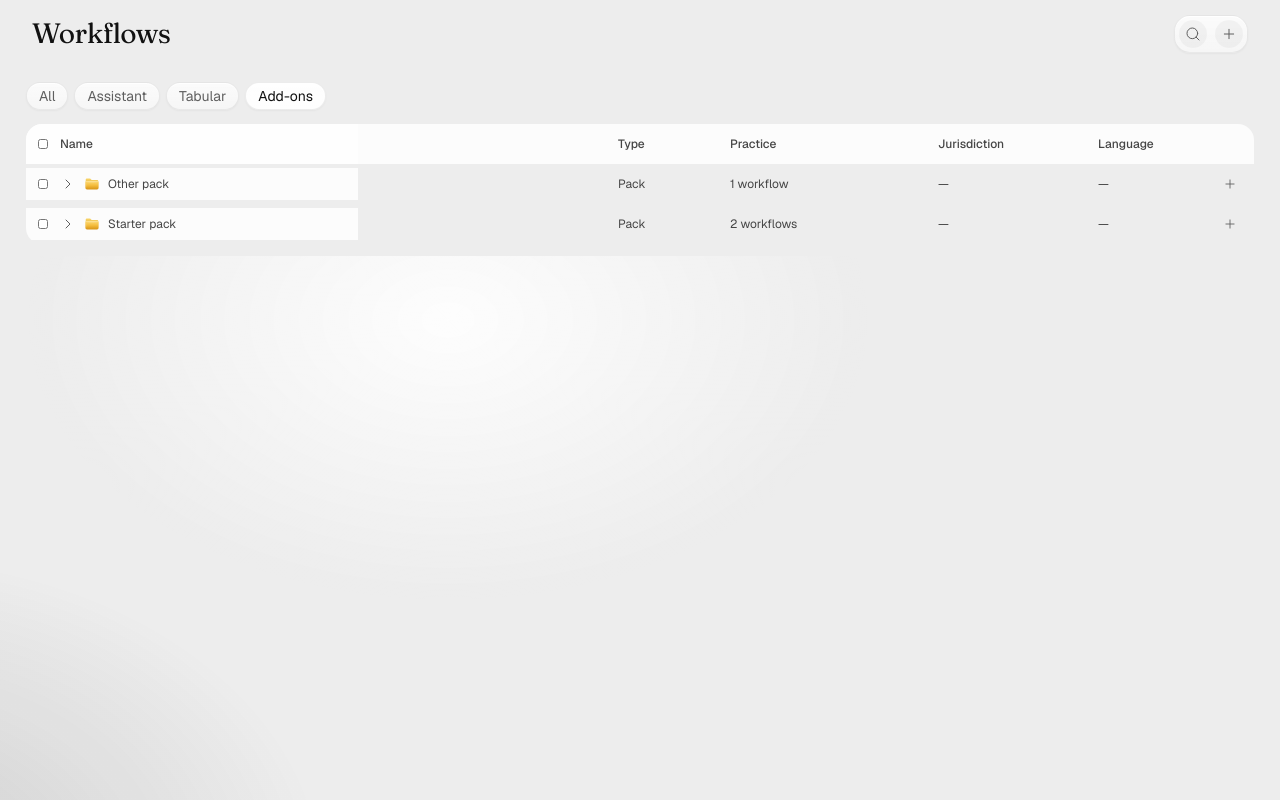
Test: WorkflowList pack toolbar › retries a partially imported folder without copying successful workflows again
Click the button named "Import" in the row of "Starter pack". click: click(1230, 224)
box: x1=1218 y1=212 x2=1242 y2=236
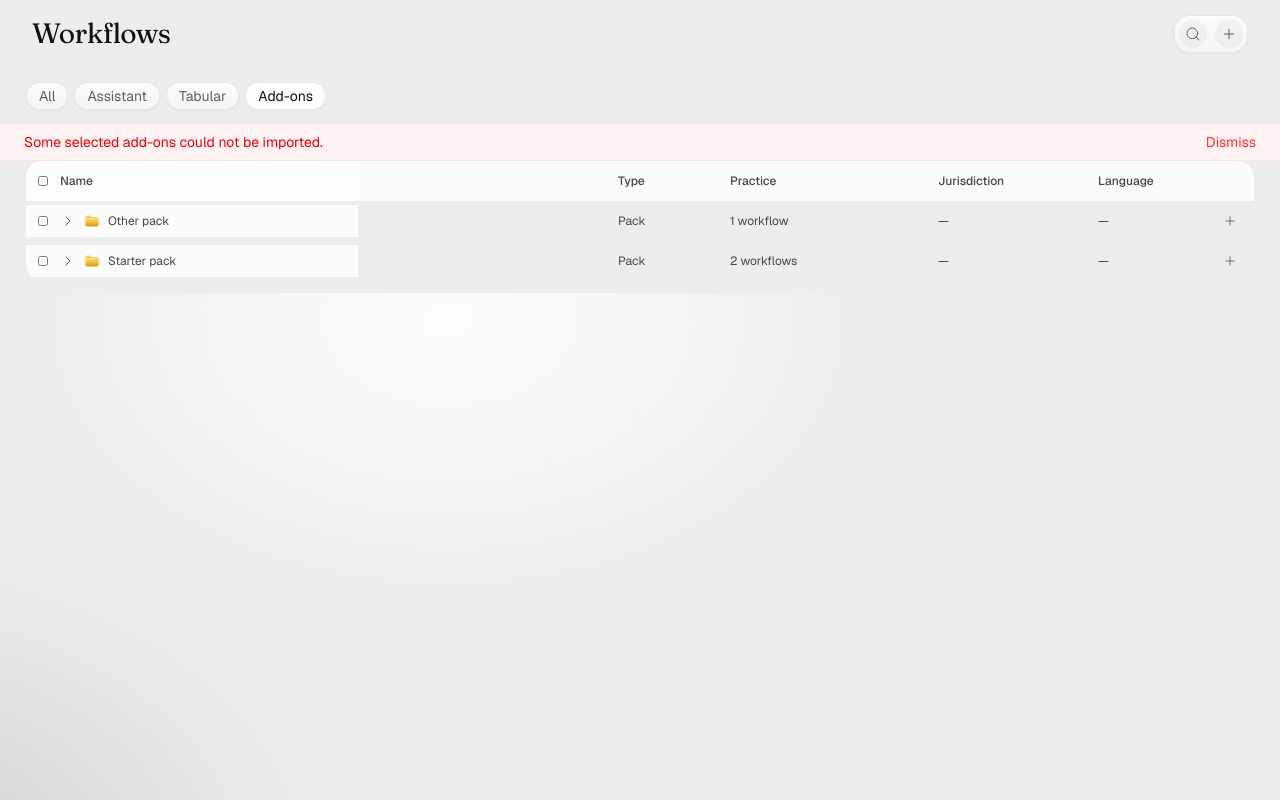
Check: the message shows "Some selected add-ons could not be imported.", box x1=24 y1=133 x2=323 y2=151
Click the button named "Import" in the row of "Starter pack". click: click(1230, 261)
box: x1=1218 y1=249 x2=1242 y2=273
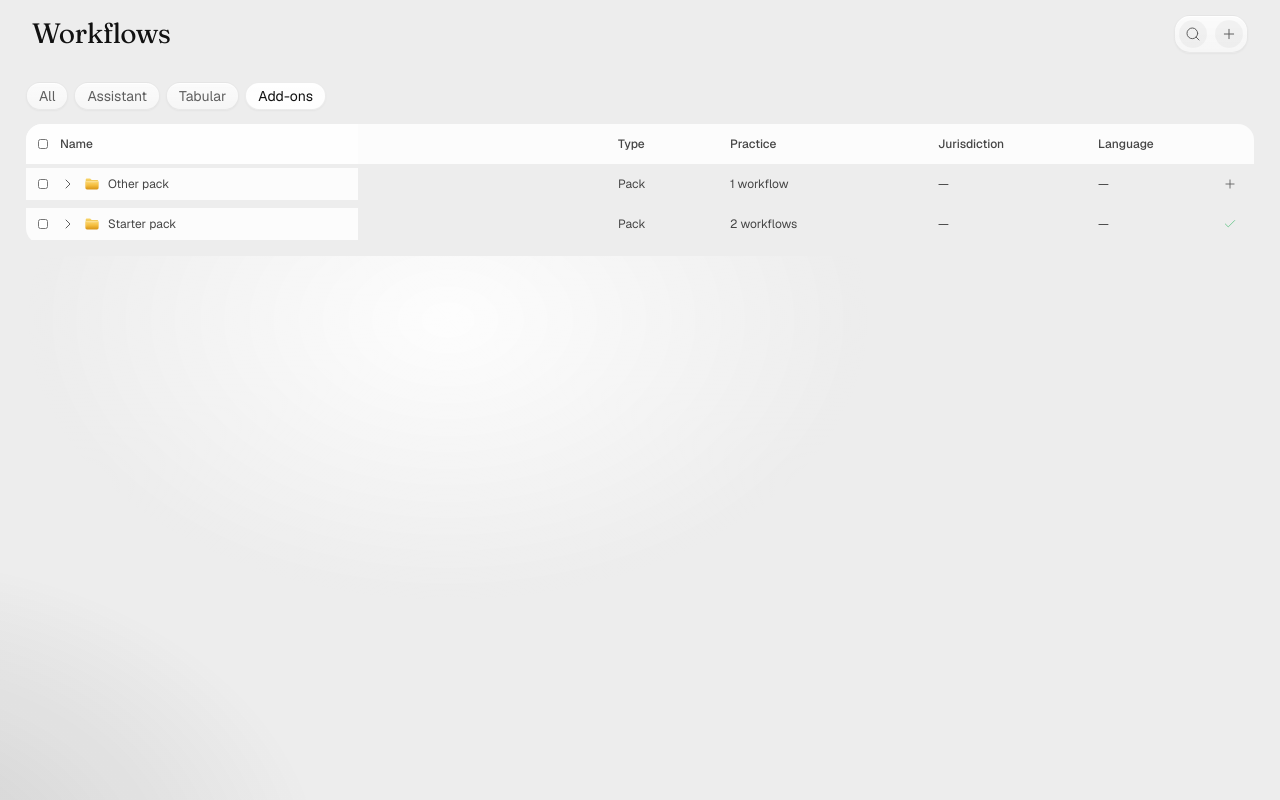
Check: the button named "Imported" is disabled, box x1=1218 y1=212 x2=1242 y2=236
Check: the message "Some selected add-ons could not be imported. Dismiss" is gone
